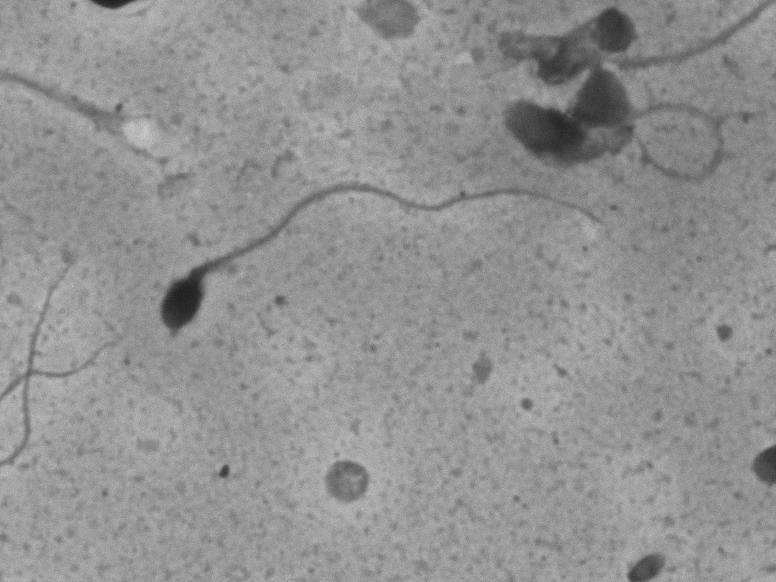Normal: (148, 176, 619, 341)
